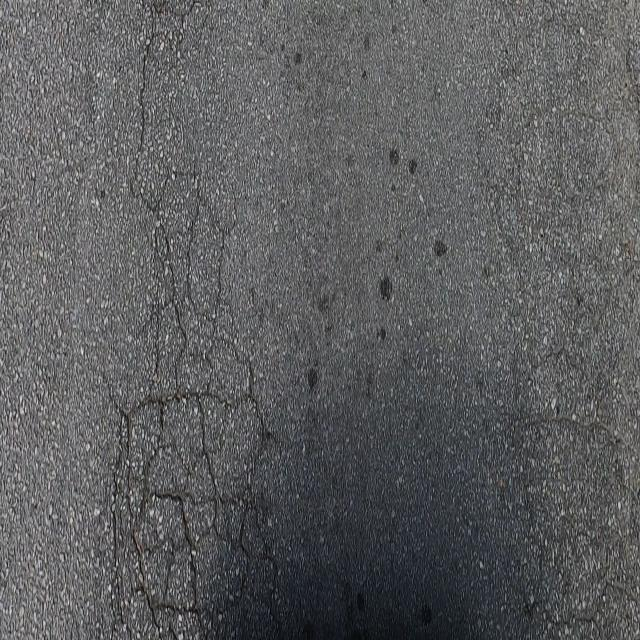Retak-Buaya: (478, 3, 640, 638), (101, 153, 283, 639)
Retak-Memanjang: (129, 2, 174, 215)
